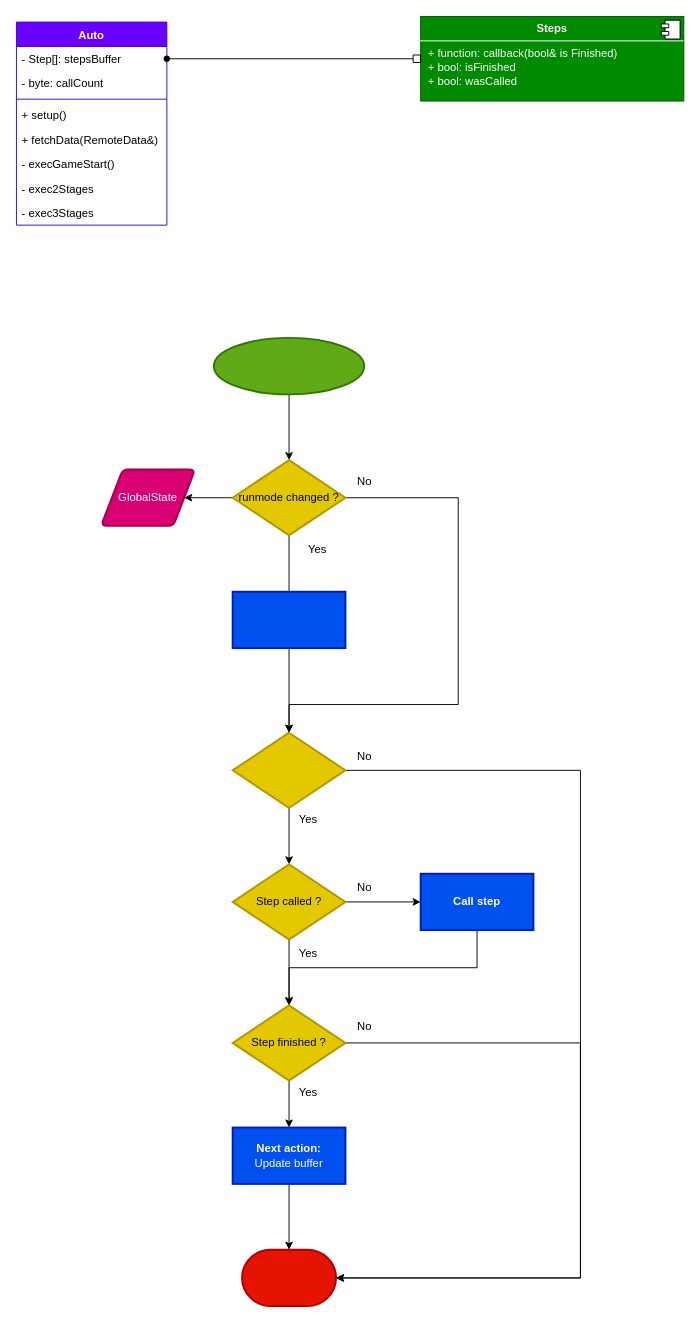
Image size: 700x1324. Some labels were removed from this diagram. The shapes that lost their labels are listed below. From the top down, each one's centre as x and y in pixels, then its label:
the point at 288,366: fetchData(RemoteData&)
the point at 288,619: Start action : Reset and fill buffer
the point at 288,769: auto running ?
the point at 289,1277: End
